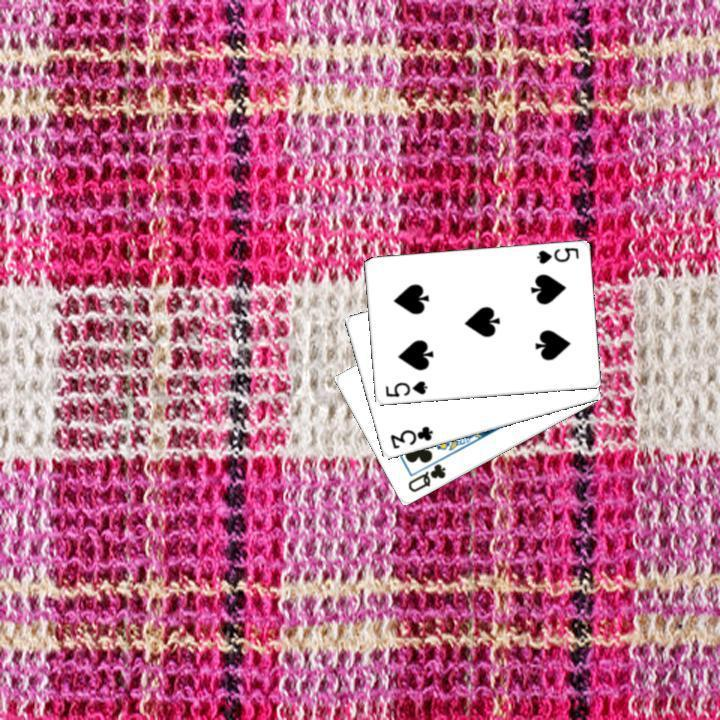3: (385, 422, 435, 451)
5: (532, 243, 580, 266), (380, 377, 429, 399)
Q: (403, 460, 448, 495)
